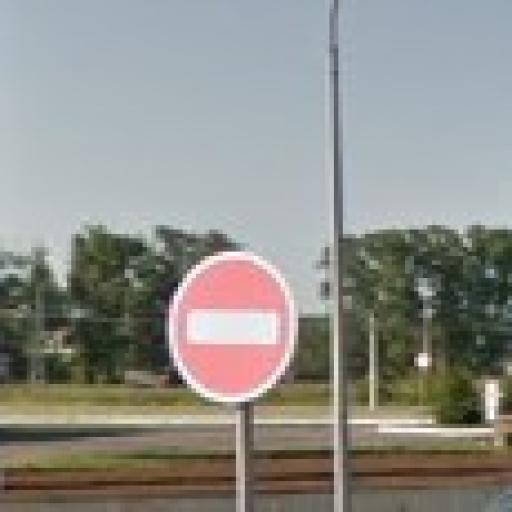traffic_sign: (166, 253, 304, 407)
